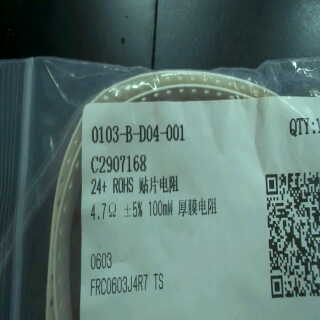4.7R: (90, 200, 120, 228)
